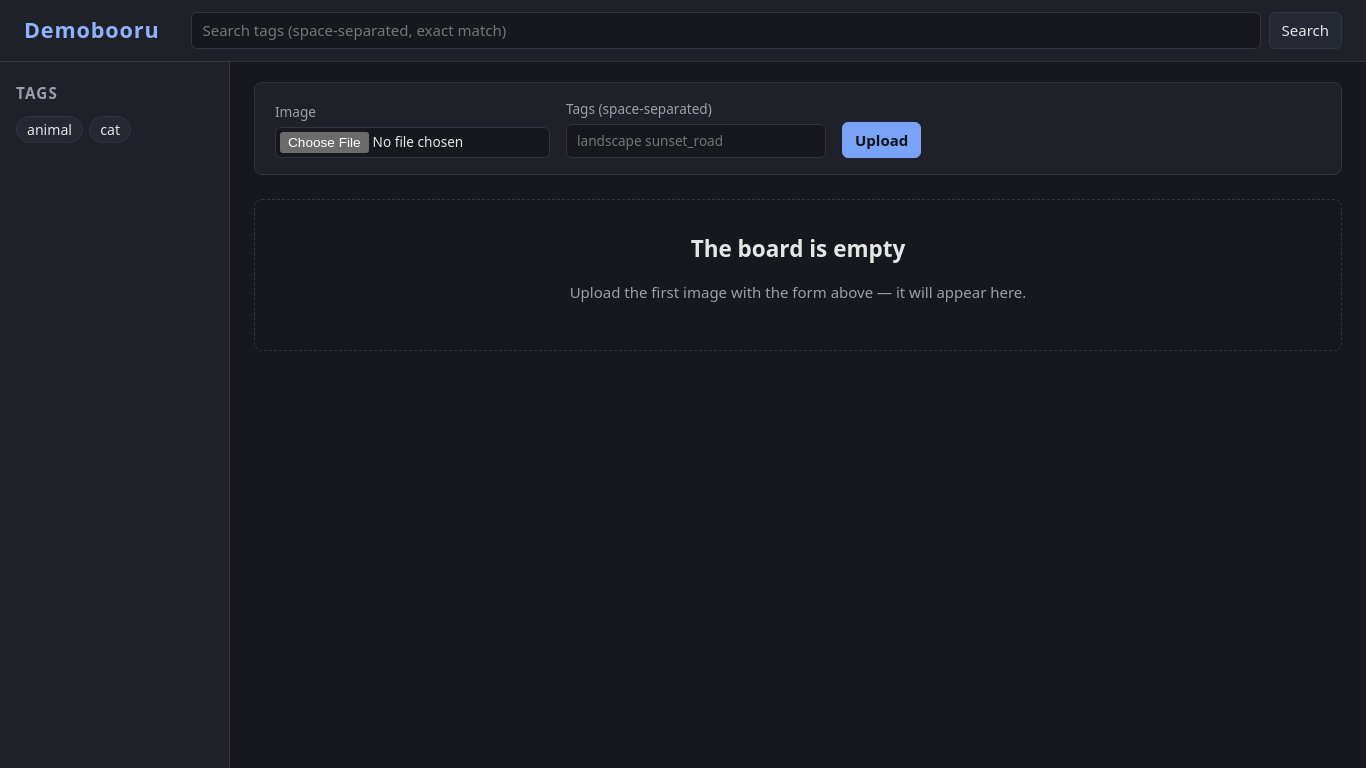
Test: grid view › clicking a tag in the tag panel searches for it
Click the button "cat": [110, 130] box [89, 116, 131, 143]
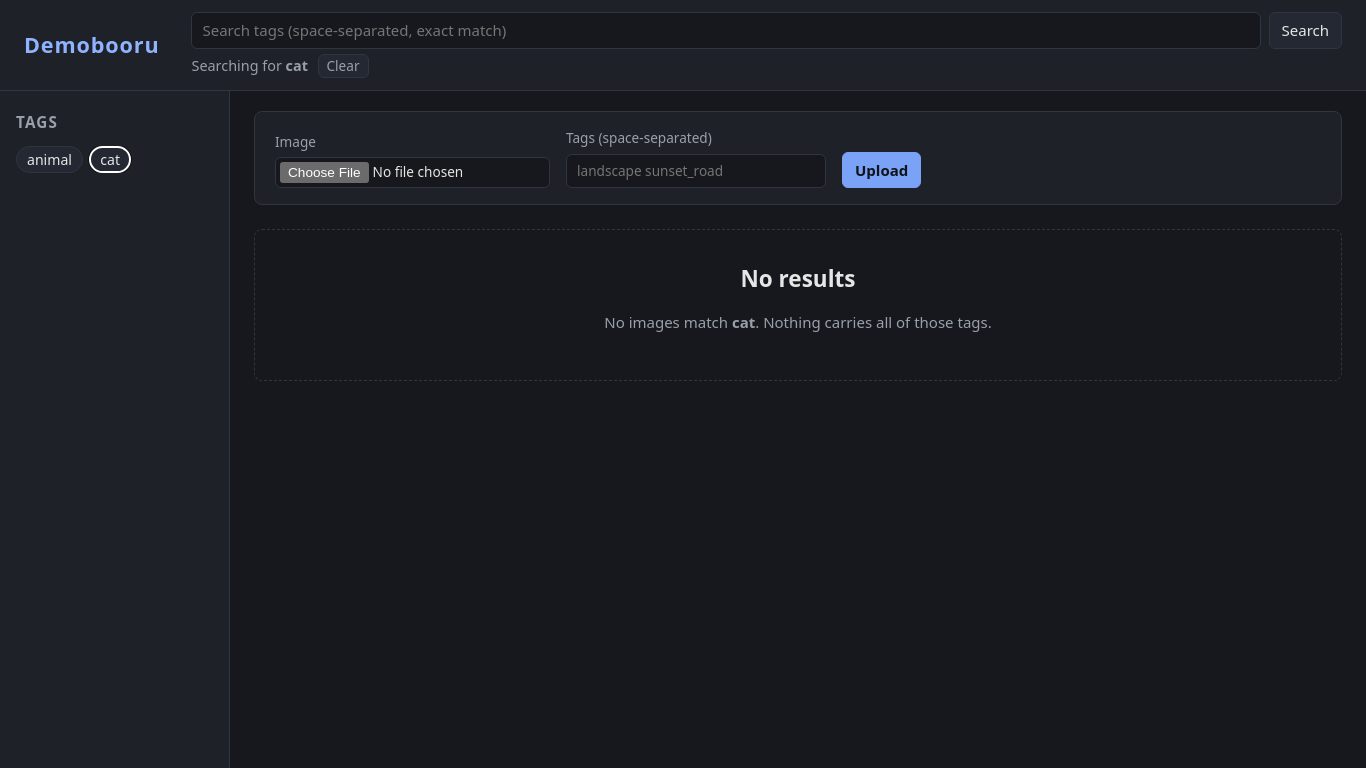
Now the text "Searching for cat Clear" is shown, box [192, 54, 368, 78]
